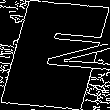N_W: (5, 31, 105, 79)
